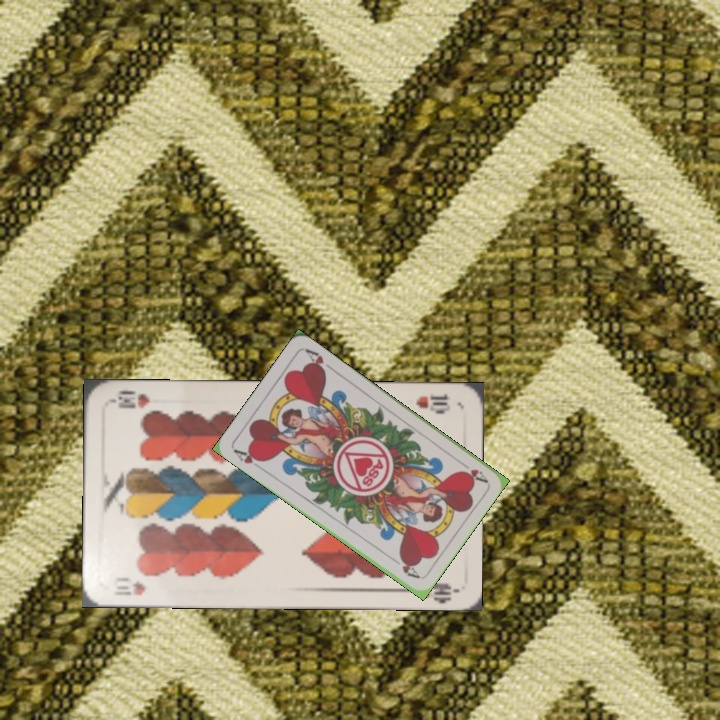H10: (412, 390, 453, 416), (110, 573, 149, 598)
HA: (229, 445, 266, 473), (454, 456, 489, 485)
